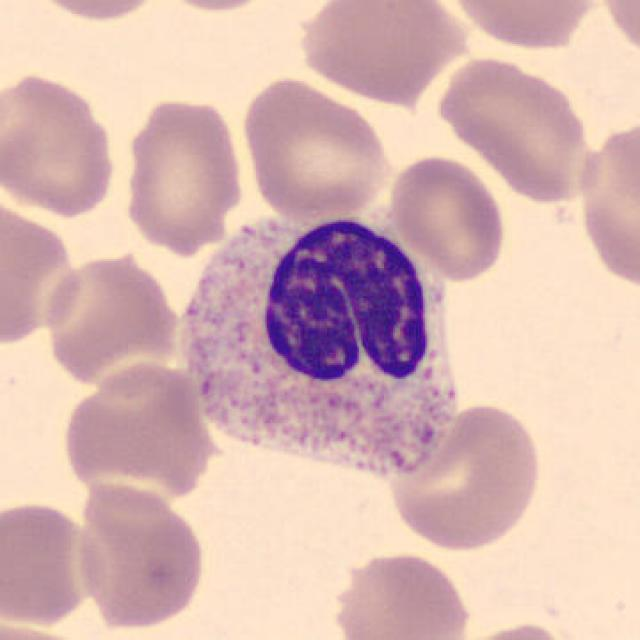Neutrophil: (171, 201, 471, 506)
RBC: (382, 398, 546, 554), (441, 53, 601, 204), (57, 356, 213, 506), (238, 74, 395, 222), (73, 480, 210, 634), (119, 92, 247, 256), (39, 245, 183, 388), (295, 0, 468, 106), (0, 69, 121, 220), (386, 152, 508, 284), (321, 546, 478, 640), (0, 495, 108, 629), (582, 124, 640, 296), (441, 0, 604, 53), (19, 0, 172, 25), (441, 617, 592, 640), (595, 0, 640, 67), (0, 619, 101, 640), (146, 0, 286, 14)
